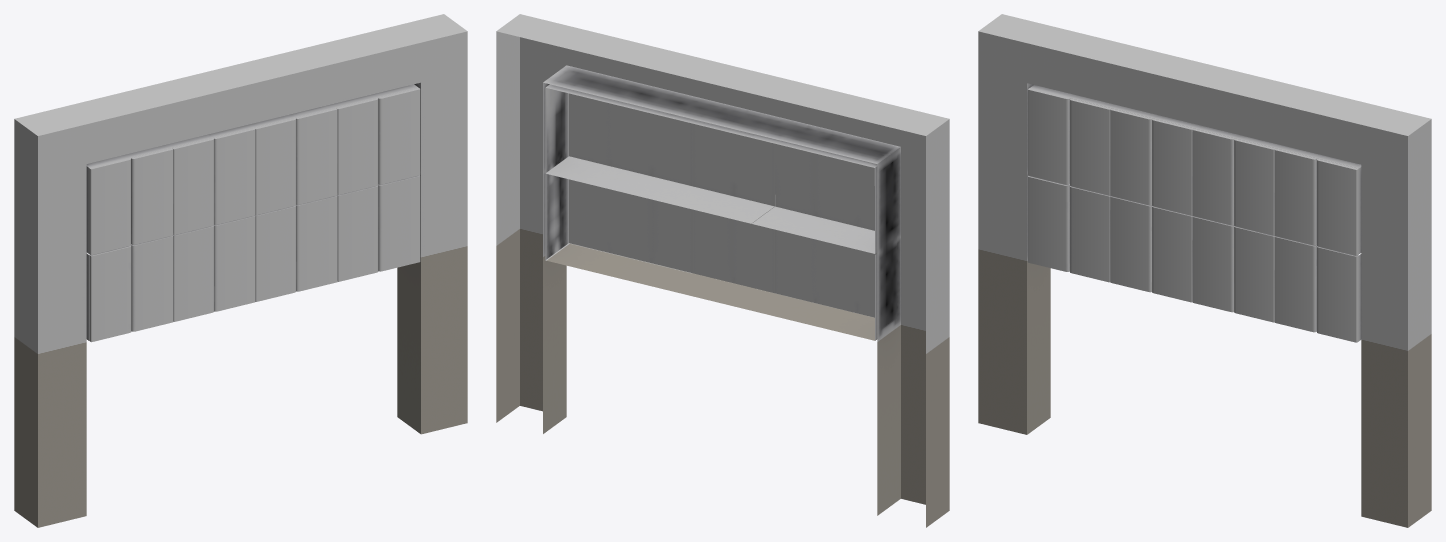
The model's file is Estanteria.fbx.
3 views of the same model, side by side, from view 1: azimuth 30°, elevation 25°; view 2: azimuth 150°, elevation 25°; view 3: azimuth 330°, elevation 25° (orthographic).
Visible parts, largest first — view 1: Box004; view 2: Box004; view 3: Box004.
Part boxes in pixels (<box>): Box004: <box>14,14,467,527</box>; Box004: <box>496,14,949,527</box>; Box004: <box>978,14,1431,527</box>.
Size of the model in its own units: 206 by 180 by 21.4.
1 material, 1 textured.
